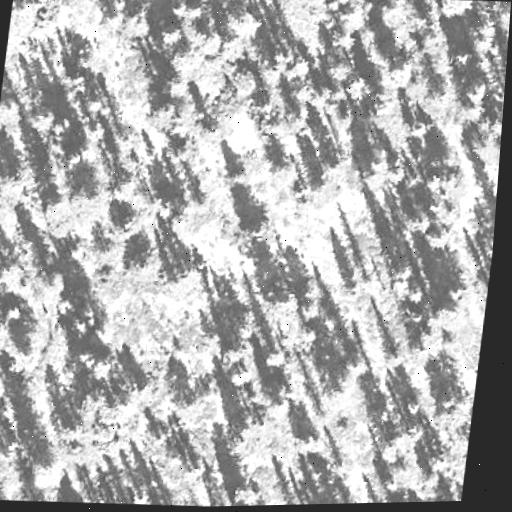tree-top: (164, 206, 217, 287), (55, 388, 115, 445), (141, 92, 200, 146), (11, 309, 62, 362), (353, 144, 401, 197), (428, 384, 476, 431), (419, 161, 469, 206), (233, 206, 281, 252), (166, 193, 212, 240), (163, 257, 210, 301), (170, 385, 215, 429), (372, 0, 422, 38), (218, 2, 263, 43), (434, 279, 477, 320), (399, 67, 441, 108), (220, 64, 262, 104), (152, 438, 201, 472), (0, 156, 37, 200), (263, 150, 303, 190), (123, 245, 163, 285), (23, 452, 64, 491), (224, 302, 262, 344), (117, 2, 157, 41), (66, 177, 108, 214), (374, 427, 413, 465), (113, 204, 151, 240), (334, 0, 373, 34), (343, 70, 378, 107), (294, 272, 328, 309), (403, 333, 436, 371), (457, 72, 491, 108), (24, 104, 60, 137), (8, 0, 39, 38), (37, 187, 70, 221), (291, 424, 327, 455), (86, 349, 119, 381), (0, 92, 25, 133), (326, 55, 360, 85), (67, 306, 96, 334), (225, 364, 256, 389), (434, 0, 472, 19), (55, 0, 89, 2)
